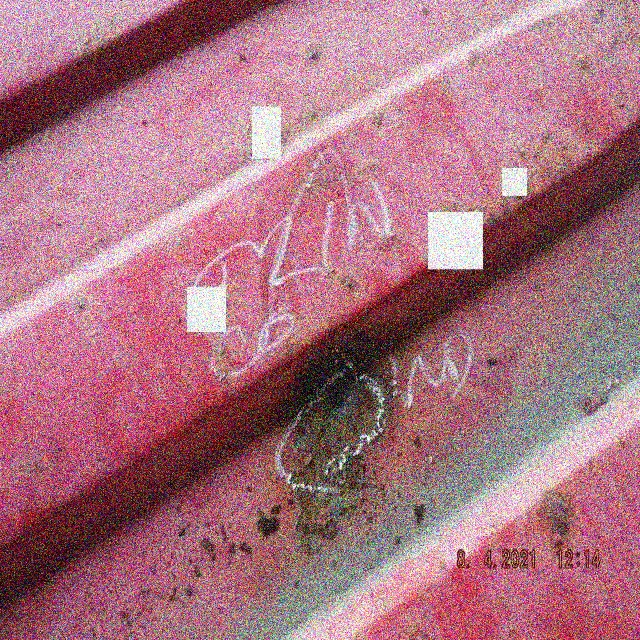Hole: (328, 390, 350, 413)
Rusty: (293, 342, 395, 556), (537, 482, 579, 549)
